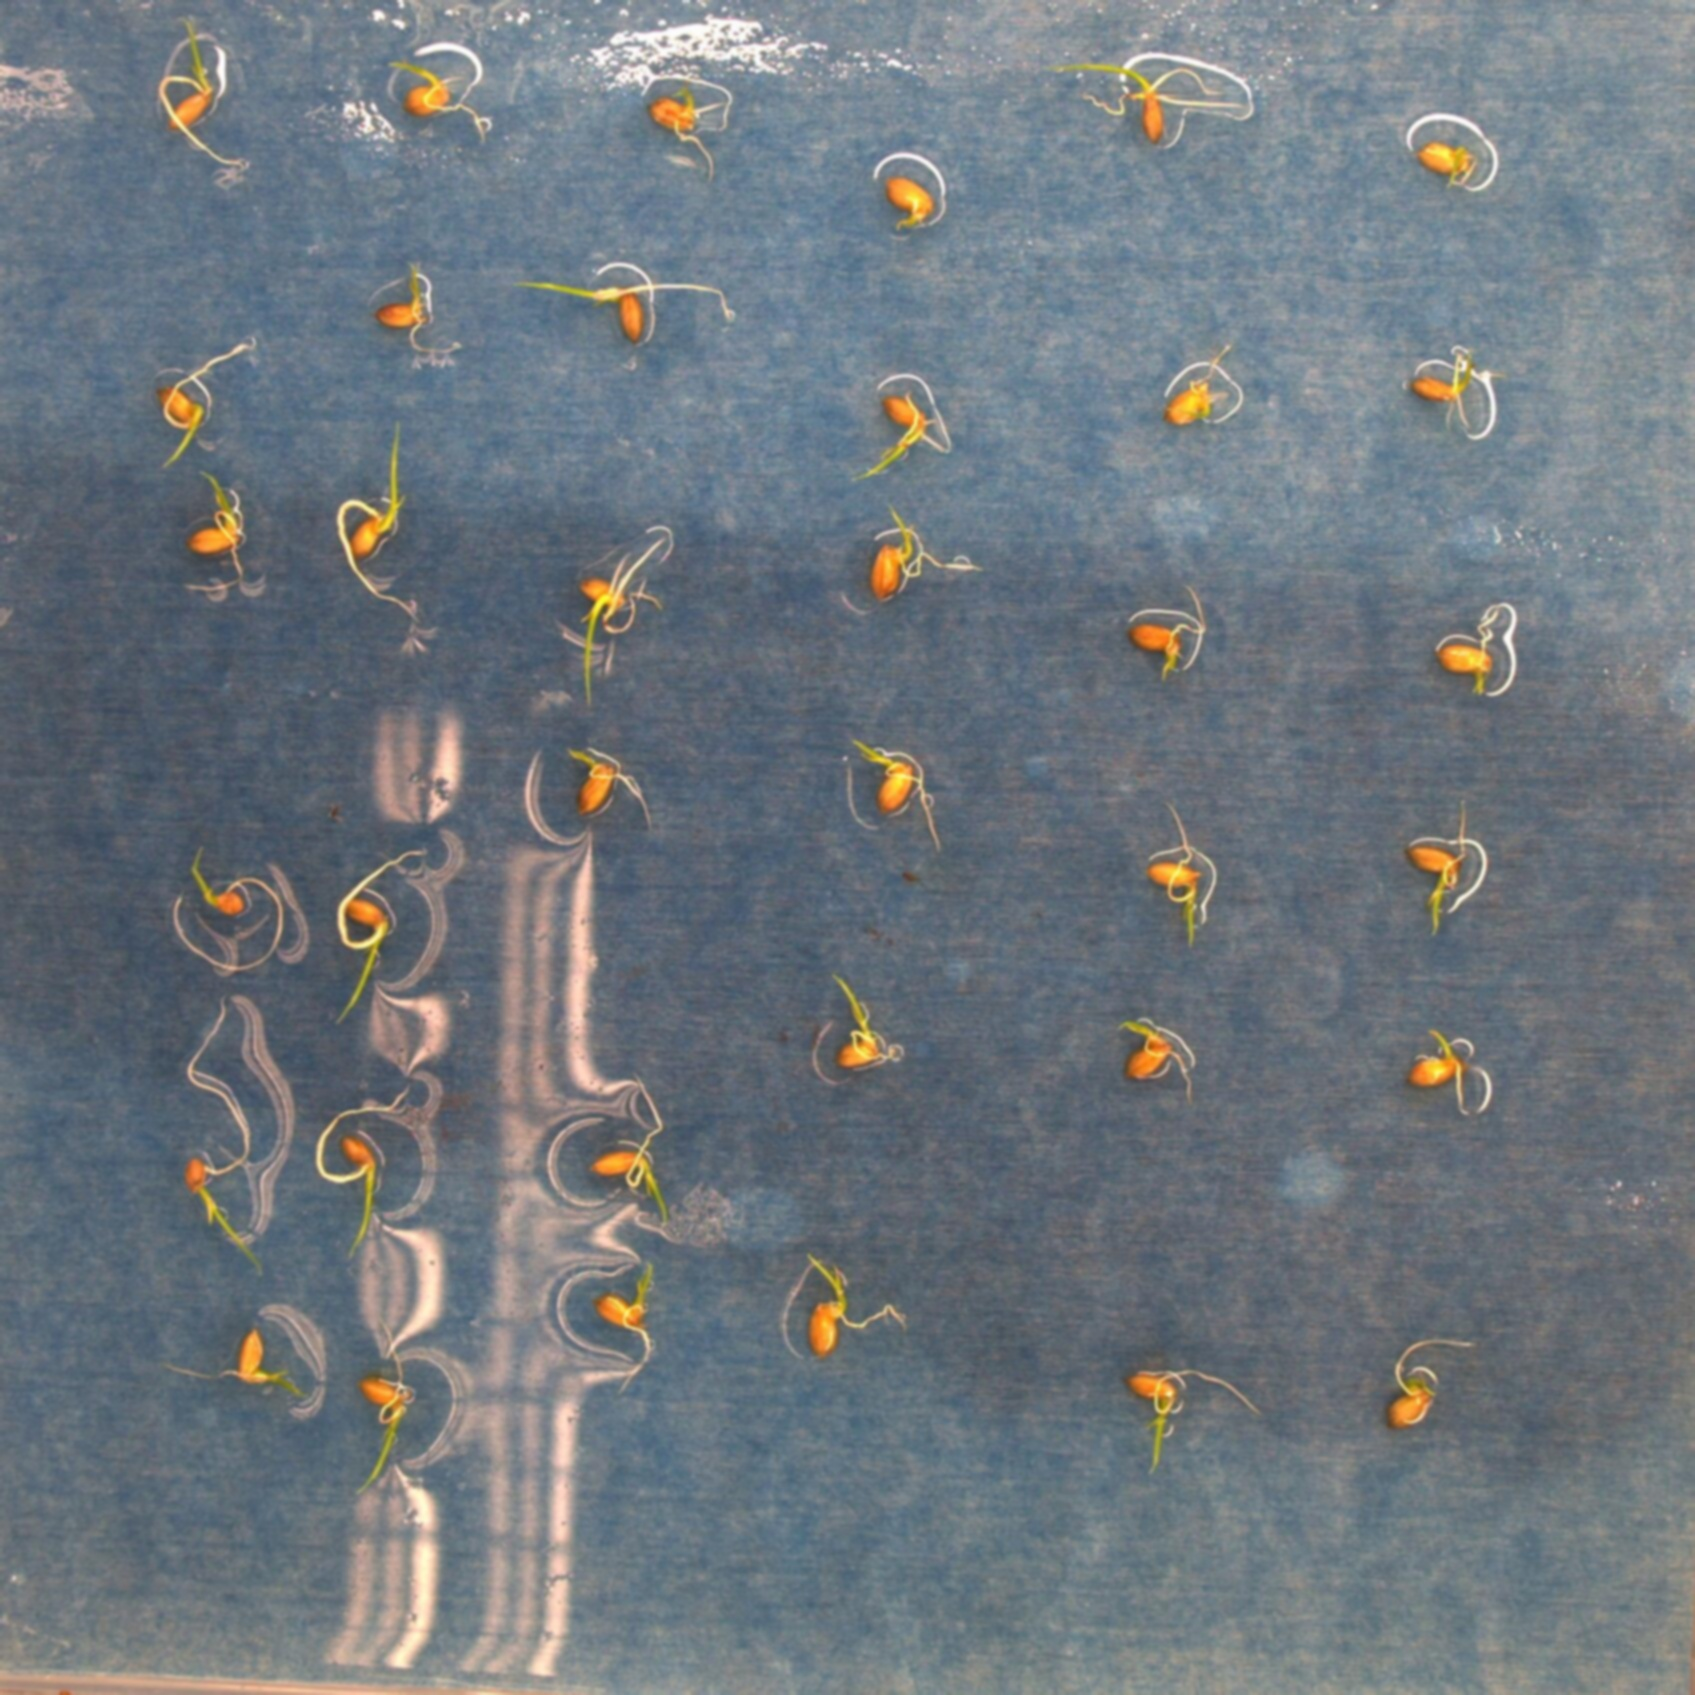not sprout: (1378, 1336, 1478, 1425), (882, 175, 938, 230)
sprout: (182, 993, 265, 1276), (326, 414, 435, 619), (1032, 57, 1257, 144), (581, 529, 686, 705), (310, 1083, 411, 1257), (332, 846, 425, 1024), (1122, 1358, 1262, 1473), (147, 337, 273, 464), (169, 843, 289, 973), (508, 276, 740, 341), (149, 23, 245, 171), (587, 1077, 671, 1239), (799, 1246, 910, 1357), (860, 506, 987, 601), (810, 965, 903, 1093), (847, 726, 942, 847), (171, 1329, 310, 1405), (185, 464, 256, 601), (591, 1265, 661, 1402), (855, 386, 953, 483), (359, 1327, 413, 1495), (650, 57, 719, 182), (1406, 798, 1468, 934), (390, 59, 487, 144), (1150, 799, 1205, 951), (1414, 343, 1501, 435), (1116, 1014, 1200, 1108), (557, 745, 650, 829), (1125, 591, 1211, 681), (1163, 341, 1239, 432), (1405, 1029, 1481, 1114), (1439, 604, 1509, 695), (374, 256, 433, 352), (1417, 140, 1489, 189)
